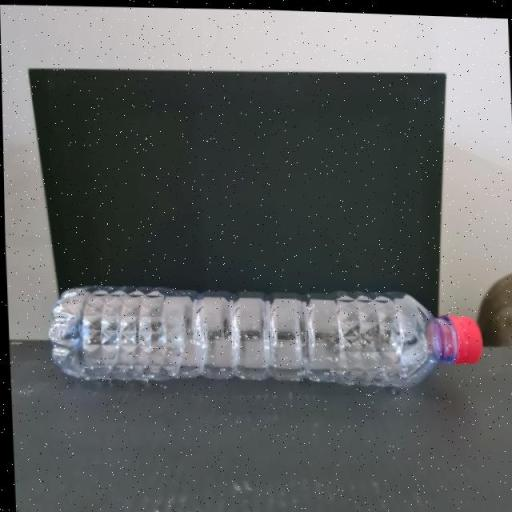plastic: (38, 265, 487, 406)
